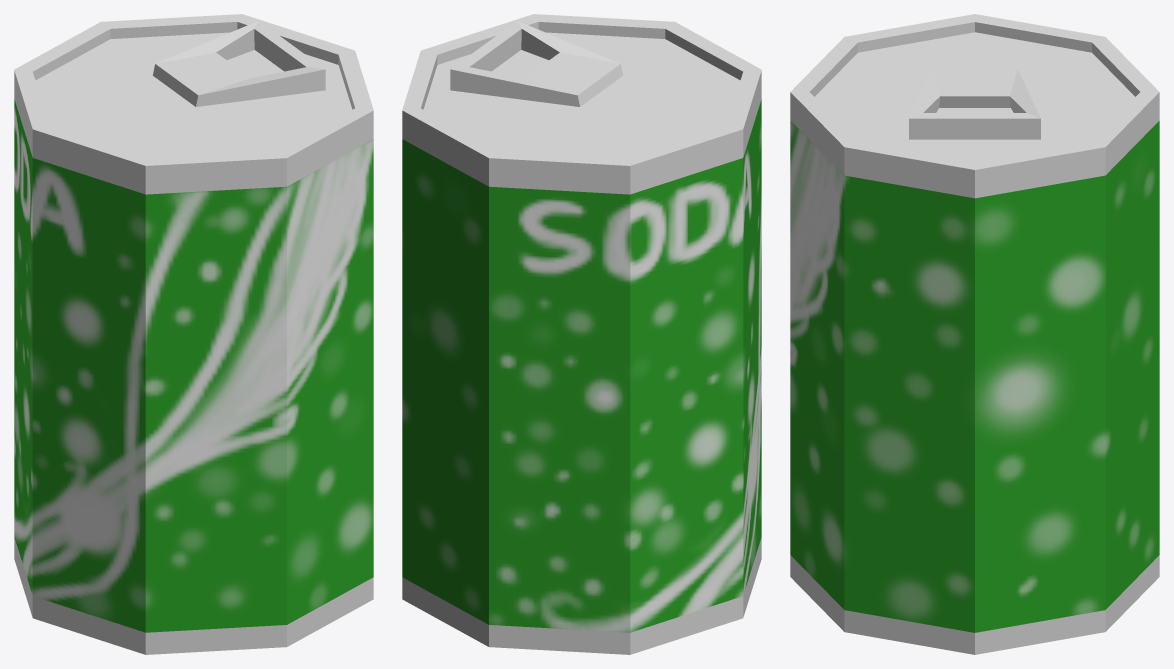
Rendered from soda.fbx.
3 renders of one model, left to right at view 1: azimuth 30°, elevation 25°; view 2: azimuth 150°, elevation 25°; view 3: azimuth 270°, elevation 25°, orthographic.
Visible parts, largest first — view 1: soda; view 2: soda; view 3: soda.
Part boxes in pixels (x1=…): soda: x1=14, y1=14, x2=373, y2=654; soda: x1=402, y1=14, x2=761, y2=654; soda: x1=790, y1=14, x2=1159, y2=654.
Size of the model in its own units: 15.88 by 15.88 by 24.
2 materials, 1 textured.
